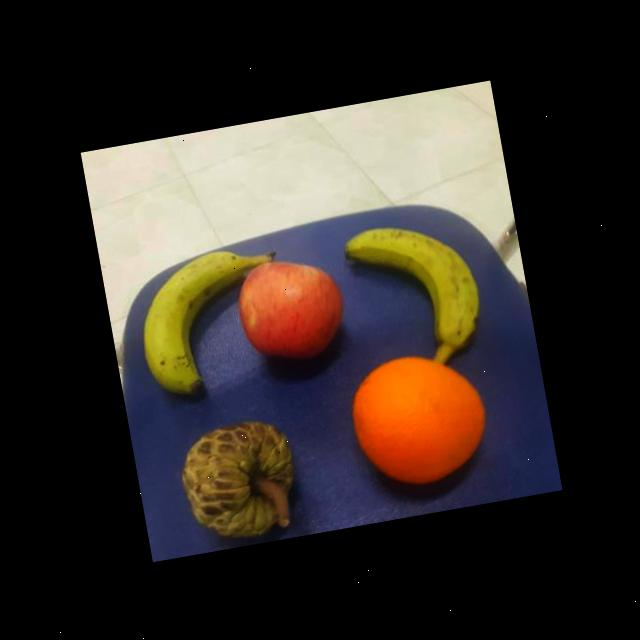Sakya fruit: (170, 412, 304, 545)
apple: (230, 249, 350, 367)
banana: (128, 240, 294, 398), (338, 211, 487, 362)
orange: (344, 343, 494, 492)
